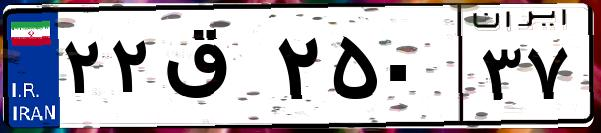0: (385, 28, 445, 110)
2: (270, 28, 330, 110), (57, 26, 110, 100), (110, 28, 158, 98)
3: (475, 38, 525, 113)
5: (330, 28, 385, 110)
7: (525, 38, 570, 115)
ق: (158, 20, 270, 120)
